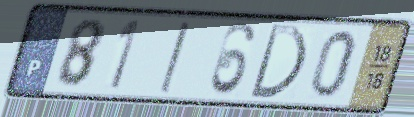0: (308, 27, 360, 102)
1: (109, 18, 143, 94)
6: (206, 21, 259, 100)
8: (56, 16, 107, 90)
D: (246, 21, 309, 103)
I: (156, 19, 193, 97)
